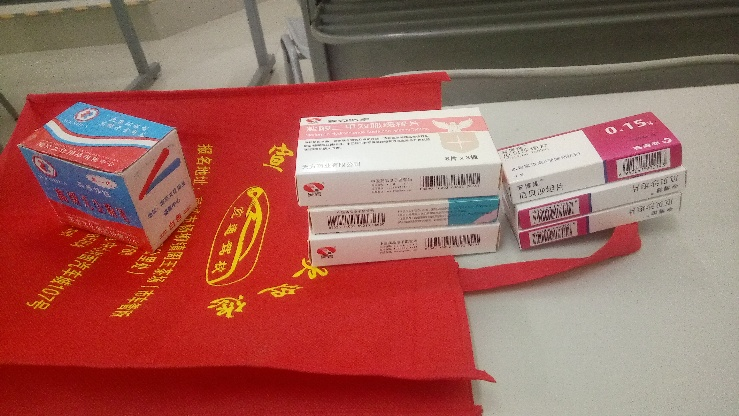pillbox: (294, 112, 502, 199), (499, 113, 685, 197), (519, 170, 691, 229), (522, 194, 682, 248), (310, 228, 498, 264), (312, 199, 499, 233)
